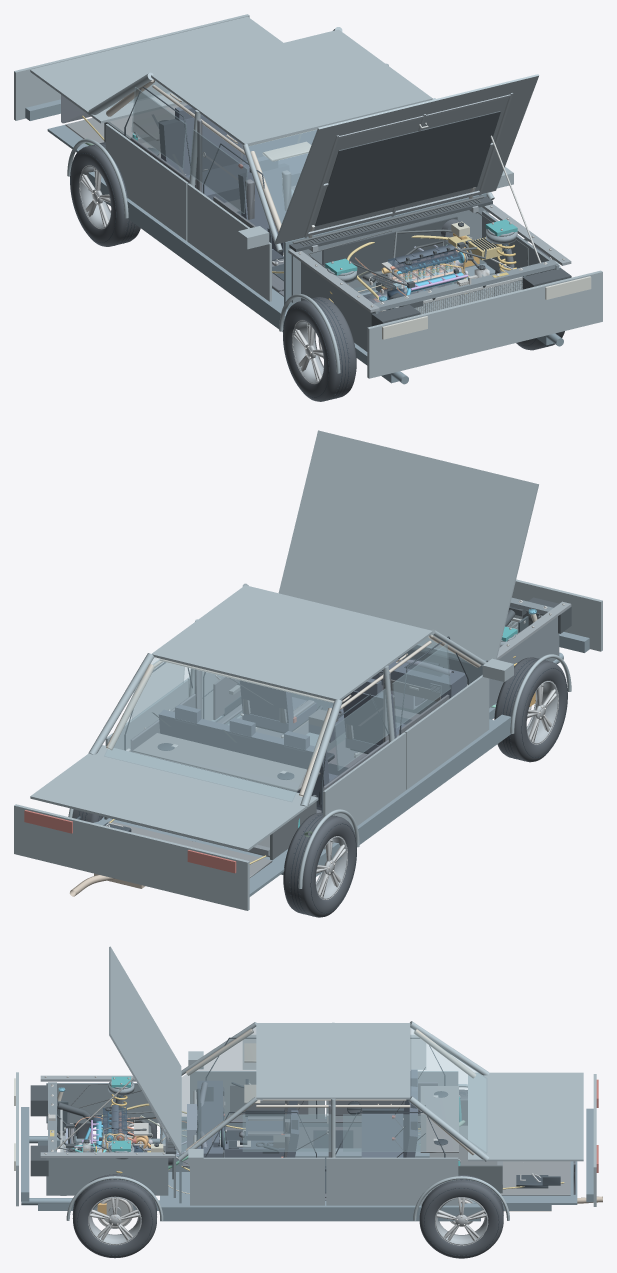
The model's file is cruze-full-r8.glb.
3 renders of one model, top to bottom at view 1: azimuth 30°, elevation 25°; view 2: azimuth 150°, elevation 25°; view 3: azimuth 270°, elevation 25°, orthographic. The views are drawn at different scales.
Parts seen in each view (by area): view 1: roof, bay_hood_pad, front_fascia, hood, trunk_lid, front_door_L, rear_door_L, tire_FL, sill_L, rear_seat_back, tire_RL, windshield (+37 smaller); view 2: hood, rear_glass, roof, trunk_lid, rear_fascia, front_door_L, tire_RL, rear_door_L, tire_FL, r7_parcel_shelf, rear_seat_back, sill_L (+25 smaller); view 3: roof, trunk_lid, hood, front_door_R, rear_door_R, rear_glass, windshield, sill_R, tire_FR, bay_apron_R, sideglass_front_R, tire_RR (+43 smaller).
Boxes of the visible parts, x1,y1,x2,y2 form: roof: (151, 29, 432, 145); bay_hood_pad: (315, 111, 500, 226); front_fascia: (367, 270, 602, 378); hood: (275, 74, 538, 244); trunk_lid: (30, 16, 283, 123); front_door_L: (187, 183, 271, 301); rear_door_L: (105, 123, 188, 240); tire_FL: (283, 297, 356, 401); sill_L: (88, 171, 287, 331); rear_seat_back: (158, 114, 316, 175); tire_RL: (70, 142, 140, 246); windshield: (249, 129, 317, 223); hood: (278, 430, 538, 660); rear_glass: (104, 657, 333, 801); roof: (152, 585, 432, 700); trunk_lid: (30, 745, 318, 851); rear_fascia: (14, 804, 249, 910); front_door_L: (405, 675, 489, 789); tire_RL: (283, 812, 356, 917); rear_door_L: (323, 732, 406, 849); tire_FL: (494, 657, 567, 762); r7_parcel_shelf: (133, 733, 320, 791); rear_seat_back: (159, 709, 329, 807); sill_L: (316, 714, 511, 876); roof: (256, 1023, 410, 1099); trunk_lid: (468, 1072, 583, 1161); hood: (109, 946, 181, 1154); front_door_R: (190, 1157, 324, 1205); rear_door_R: (326, 1157, 458, 1205); rear_glass: (410, 1026, 486, 1153); windshield: (182, 1026, 255, 1152); sill_R: (160, 1203, 480, 1221); tire_FR: (73, 1174, 156, 1258); bay_apron_R: (46, 1158, 168, 1195); sideglass_front_R: (242, 1114, 331, 1151); tire_RR: (419, 1175, 503, 1258).
Size of the model in its own units: 1.95 by 1.9 by 4.56.
